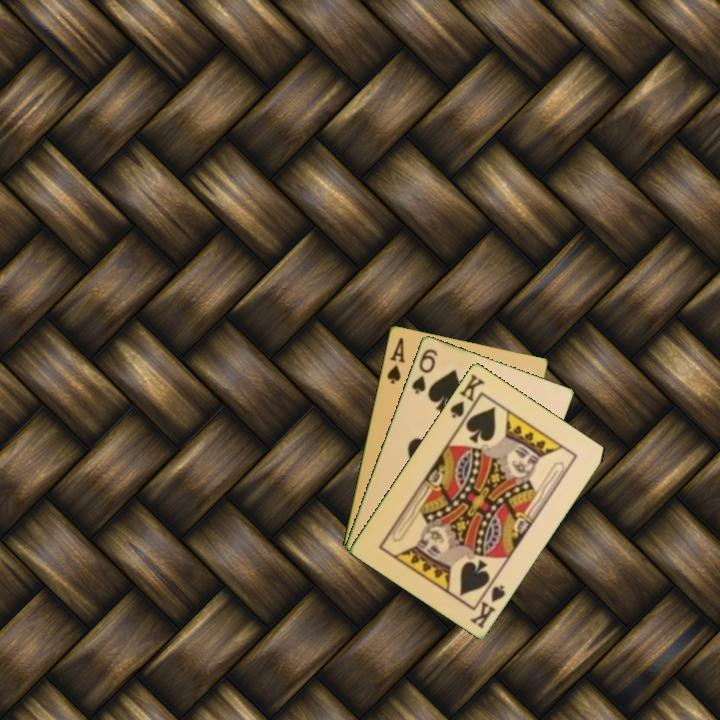6s: (408, 345, 441, 397)
As: (383, 334, 408, 386)
Ks: (446, 370, 488, 426), (466, 575, 508, 631)
